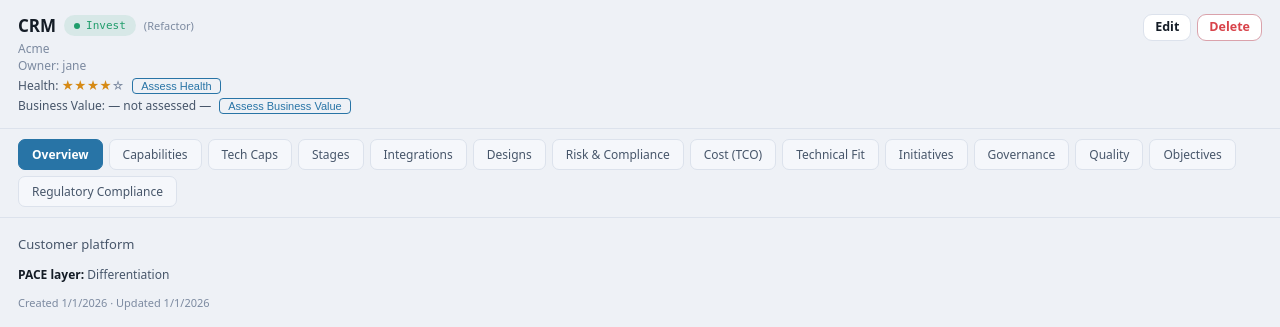
Scenario: ApplicationDetail › renders the overview and switches sections
Expected: the heading "CRM" is shown, [18,14,56,37]
Expected: the text "Invest" is shown, [64,15,136,36]
Click the button "Capabilities" at point(155, 154), box [108,139,202,170]
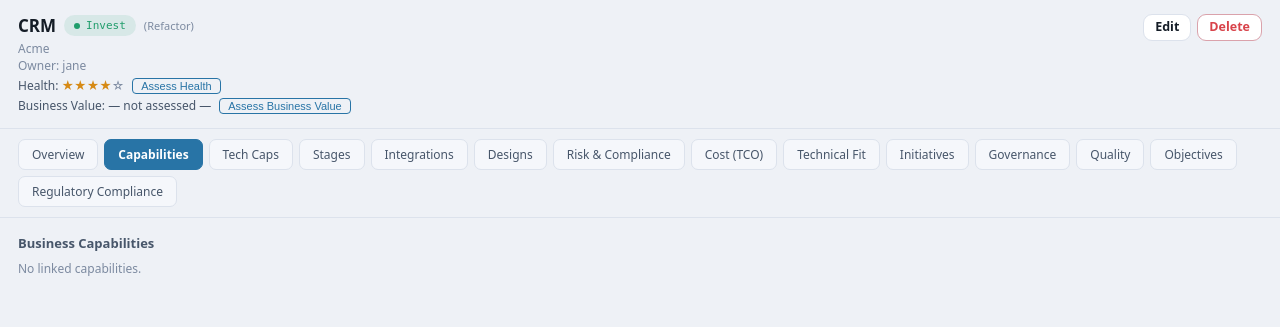
Expected: the heading "Business Capabilities" is shown, [18,234,154,252]
